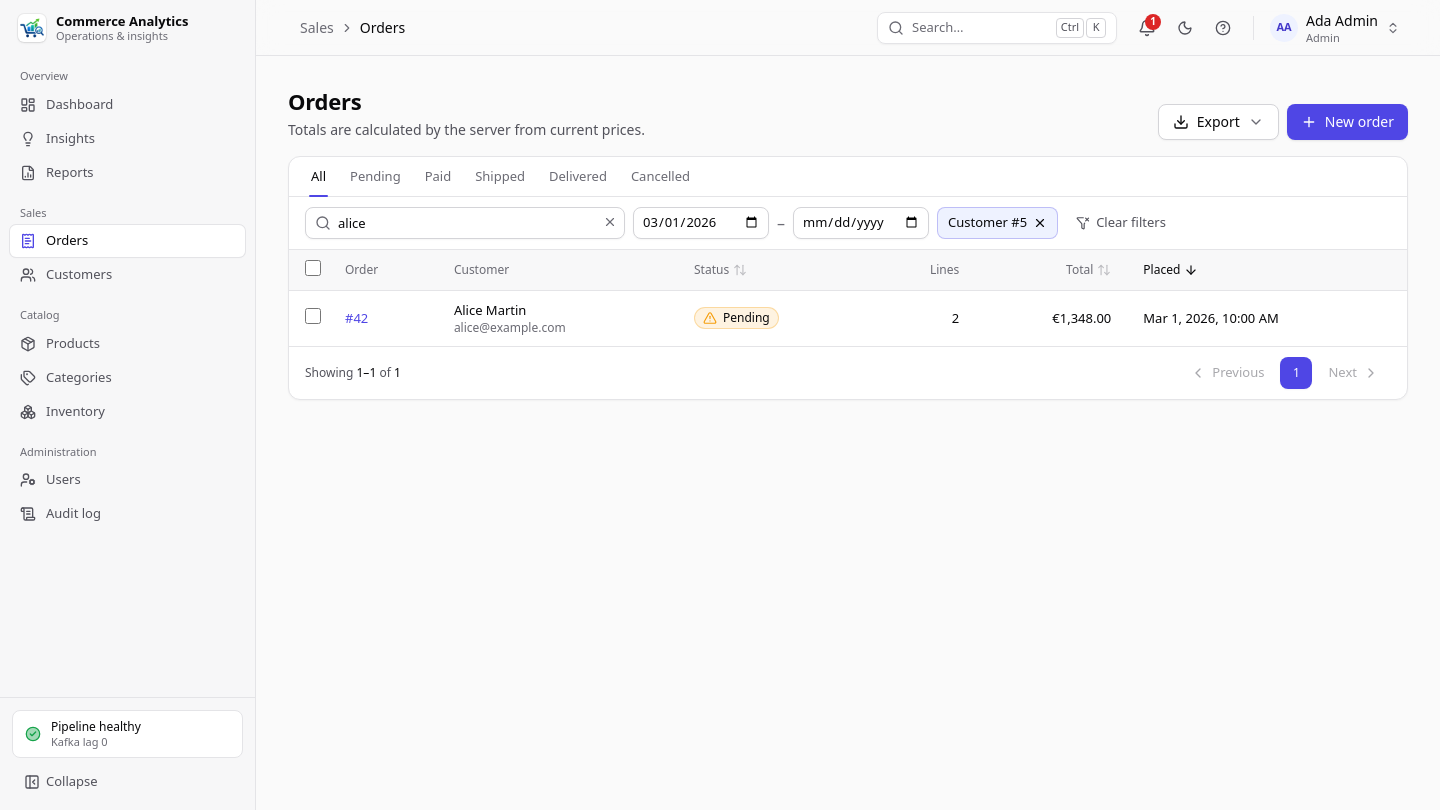
Test: filter bar › clears every list filter at once
The width and height of the screenshot is (1440, 810).
Check: the table named "Orders" is shown, box [289,250,1407,346]
What coordinates should you click on to do the following:
click the button "Clear filters"
I would click on:
 (1121, 222)
Its box is [1066,206,1176,238].
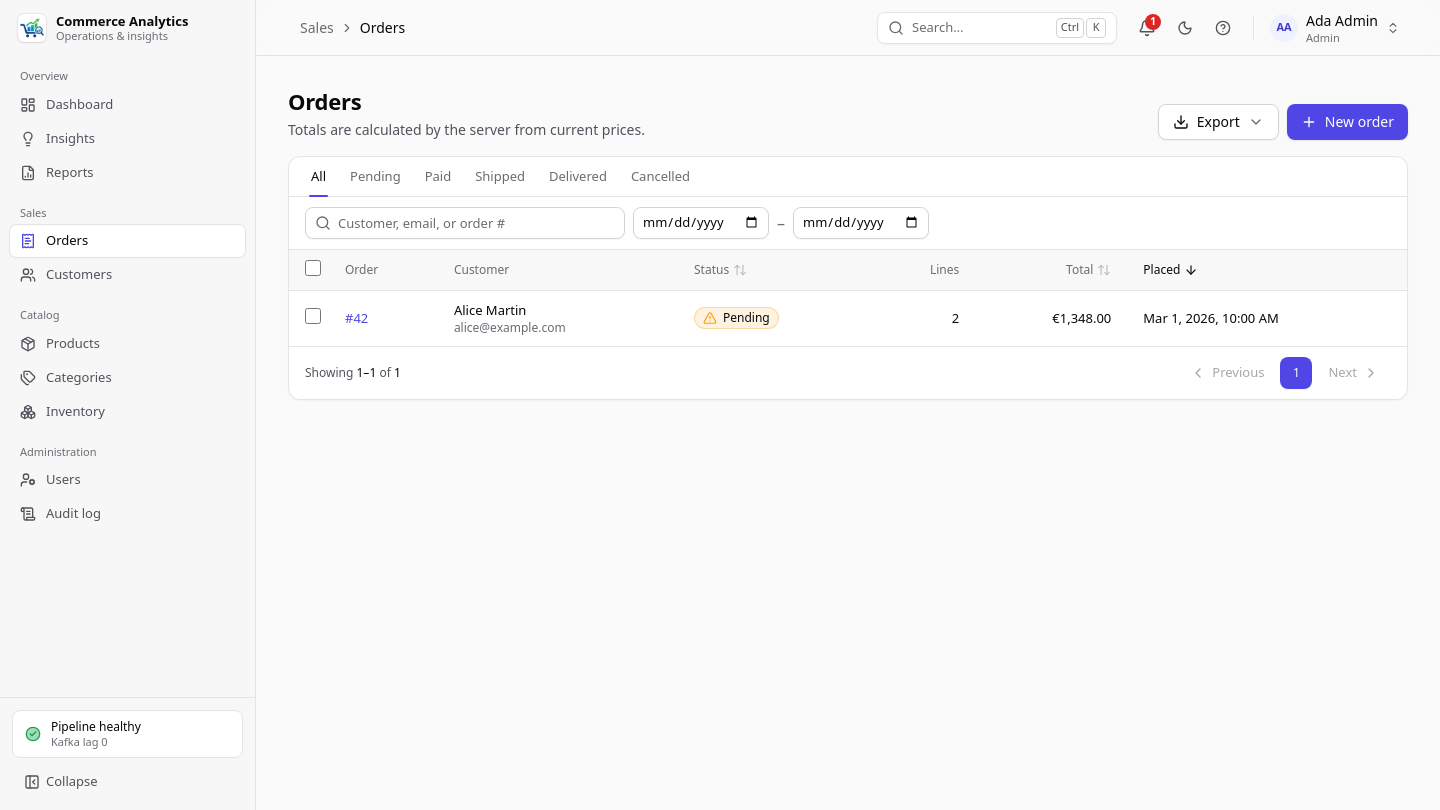
Check: the button "Clear filters" is gone
